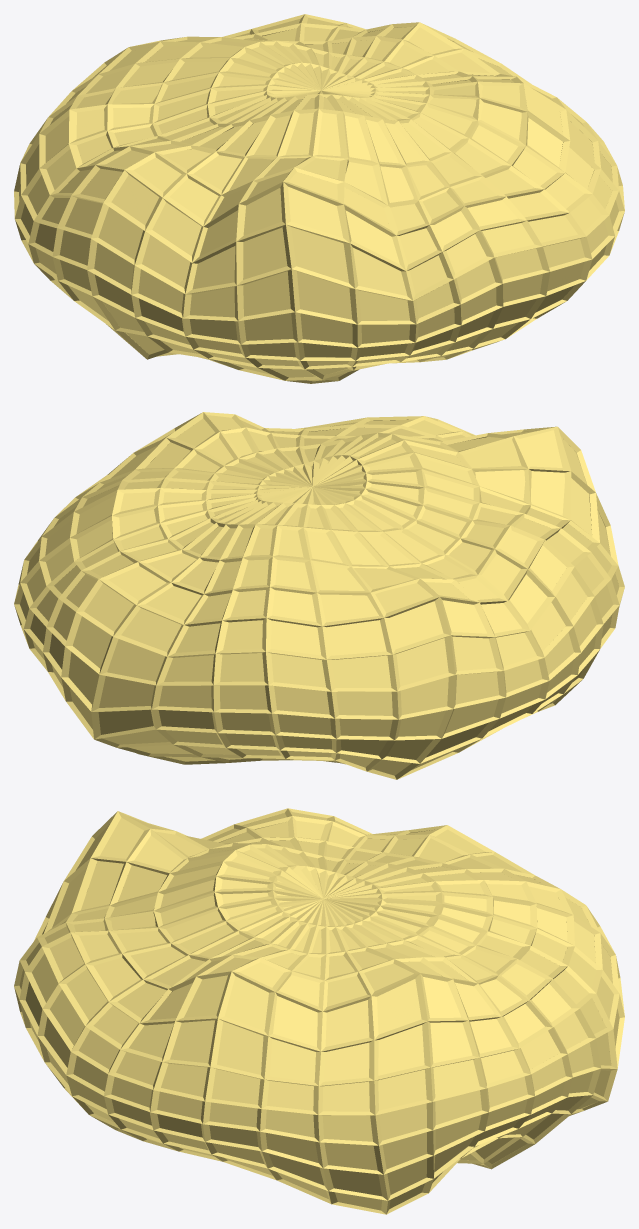
File: Eggsac.obj
The picture shows the model from 3 angles, top to bottom: view 1: azimuth 30°, elevation 25°; view 2: azimuth 150°, elevation 25°; view 3: azimuth 270°, elevation 25°; orthographic projection.
Parts seen in each view (by area): view 1: Sphere; view 2: Sphere; view 3: Sphere.
Boxes of the visible parts, box(x1,y1,x2,y2) form: Sphere: box(14, 14, 624, 383); Sphere: box(14, 412, 624, 779); Sphere: box(14, 808, 624, 1214).
Bounding box in the file's own units: 2.02 × 0.9472 × 2.04.
